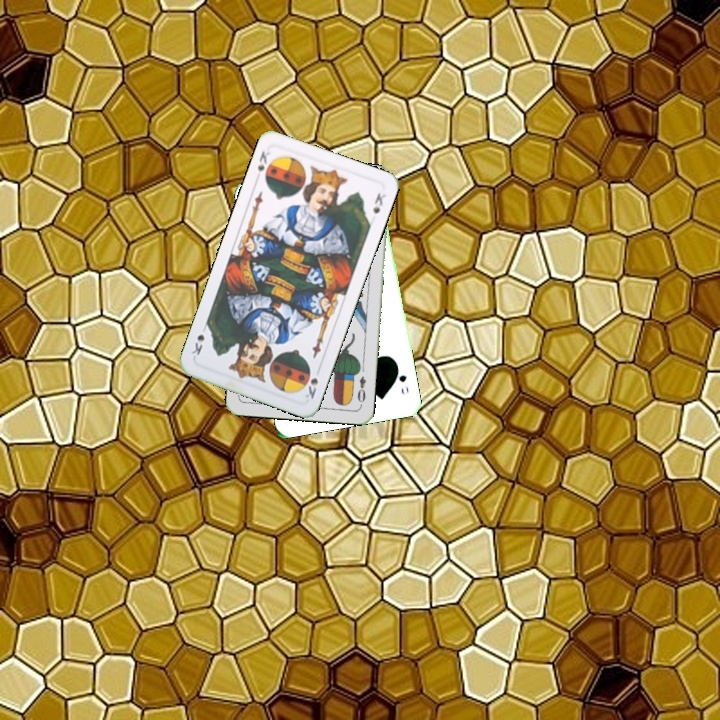EO: (353, 372, 369, 408)
GO: (392, 361, 411, 397)
SK: (253, 147, 275, 185), (301, 374, 321, 402)
